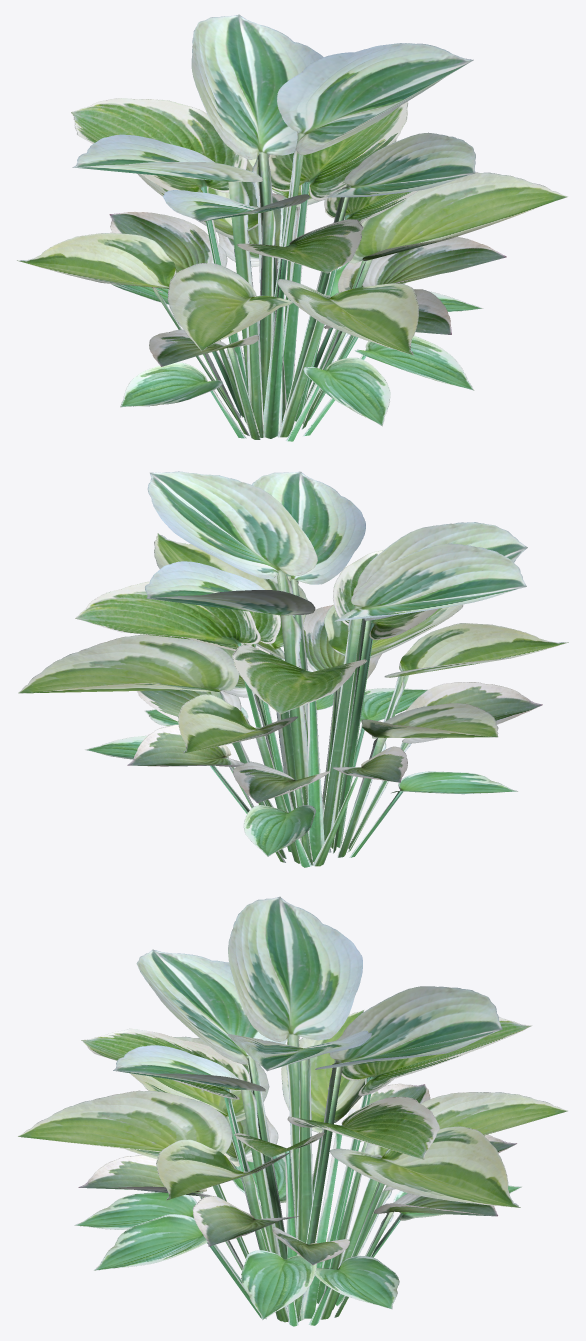
The model's file is plant_small_wg_00.fbx.
The picture shows the model from 3 angles, top to bottom: view 1: azimuth 30°, elevation 25°; view 2: azimuth 150°, elevation 25°; view 3: azimuth 270°, elevation 25°; orthographic projection. The views are drawn at different scales.
Visible parts, largest first — view 1: plant_small_wg_00; view 2: plant_small_wg_00; view 3: plant_small_wg_00.
Boxes of the visible parts, box(x1,y1,x2,y2) form: plant_small_wg_00: box(17, 14, 567, 441); plant_small_wg_00: box(18, 471, 568, 867); plant_small_wg_00: box(18, 896, 567, 1326).
Bounding box in the file's own units: 77.18 × 54.42 × 82.78.
Materials: 1 (1 with a texture image).
